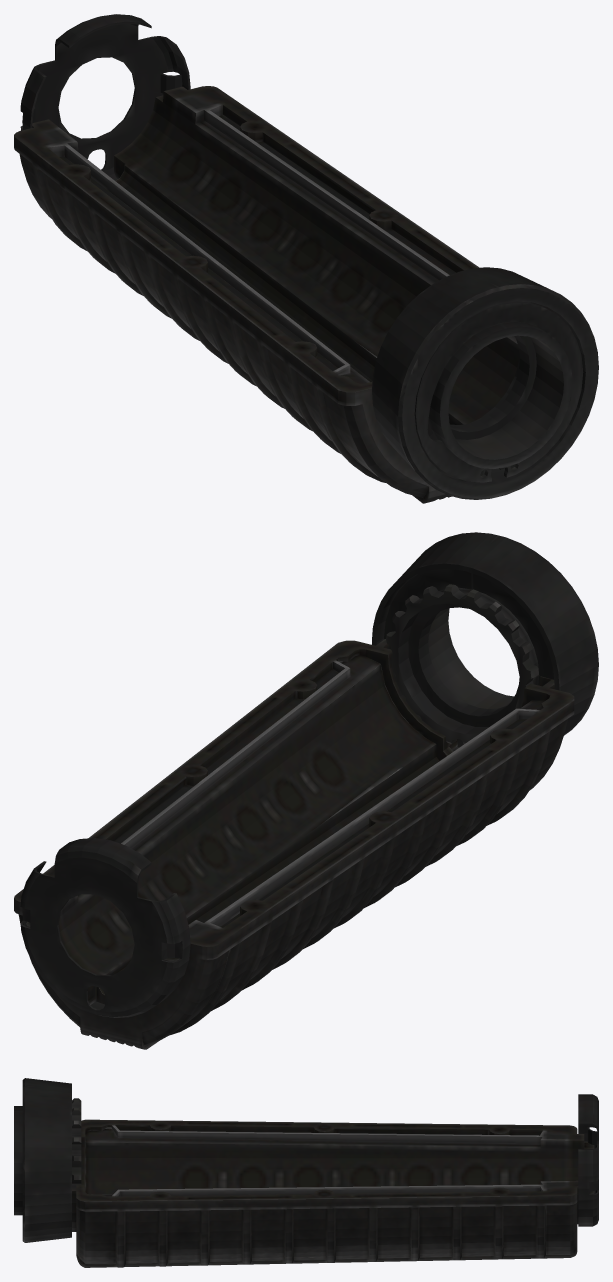
3 renders of one model, top to bottom at view 1: azimuth 30°, elevation 25°; view 2: azimuth 150°, elevation 25°; view 3: azimuth 270°, elevation 25°, orthographic. The views are drawn at different scales.
Visible parts, largest first — view 1: TW_5ae30db85acfc408fb139a05_PZ_Import; view 2: TW_5ae30db85acfc408fb139a05_PZ_Import; view 3: TW_5ae30db85acfc408fb139a05_PZ_Import.
Boxes of the visible parts, x1,y1,x2,y2 form: TW_5ae30db85acfc408fb139a05_PZ_Import: [14, 14, 598, 503]; TW_5ae30db85acfc408fb139a05_PZ_Import: [14, 532, 598, 1049]; TW_5ae30db85acfc408fb139a05_PZ_Import: [14, 1078, 598, 1267].
Size of the model in its own units: 0.0354 by 0.1065 by 0.0343.
1 material, 1 textured.
